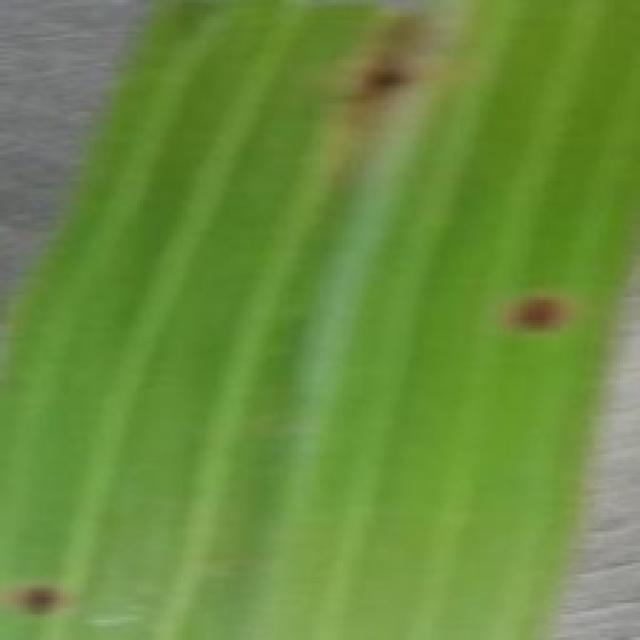Rice___Brown_Spot: (0, 2, 637, 637)
